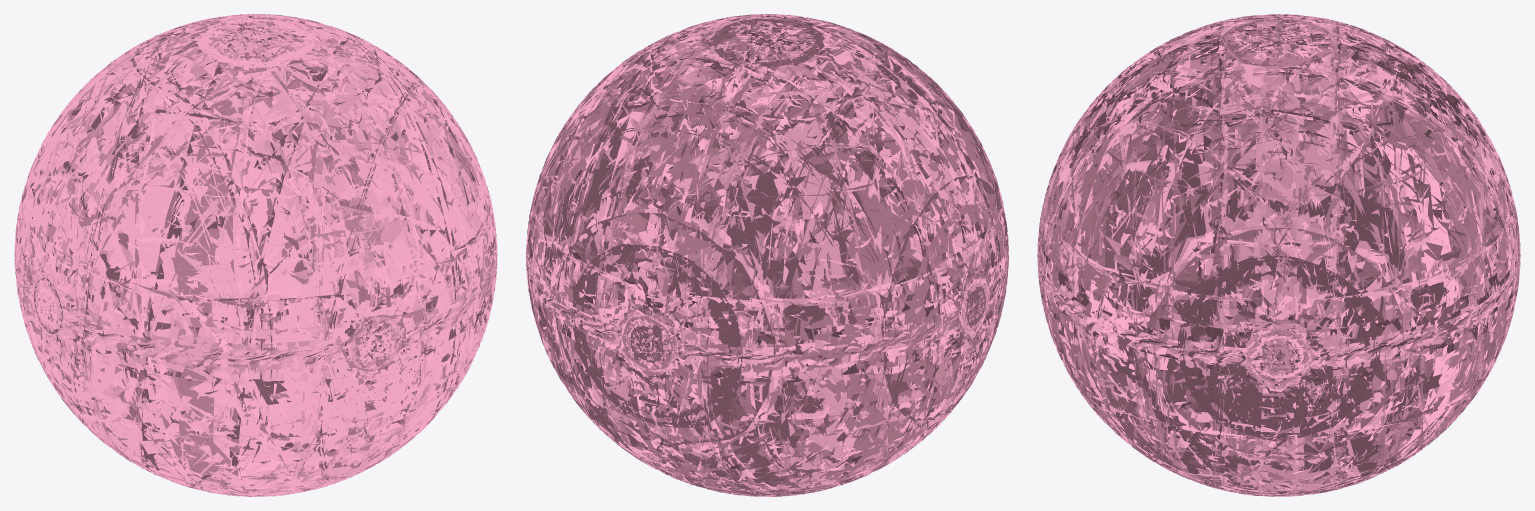
Rendered from sys-id-fire_gas.glb.
3 renders of one model, left to right at view 1: azimuth 30°, elevation 25°; view 2: azimuth 150°, elevation 25°; view 3: azimuth 270°, elevation 25°, orthographic.
Visible parts, largest first — view 1: TS-id-fire_gas-1703; view 2: TS-id-fire_gas-1703; view 3: TS-id-fire_gas-1703.
Part boxes in pixels (bbox=[...]): TS-id-fire_gas-1703: bbox=[14, 14, 497, 496]; TS-id-fire_gas-1703: bbox=[526, 14, 1008, 496]; TS-id-fire_gas-1703: bbox=[1037, 14, 1520, 496].
Bounding box in the file's own units: 2 × 2 × 2.
